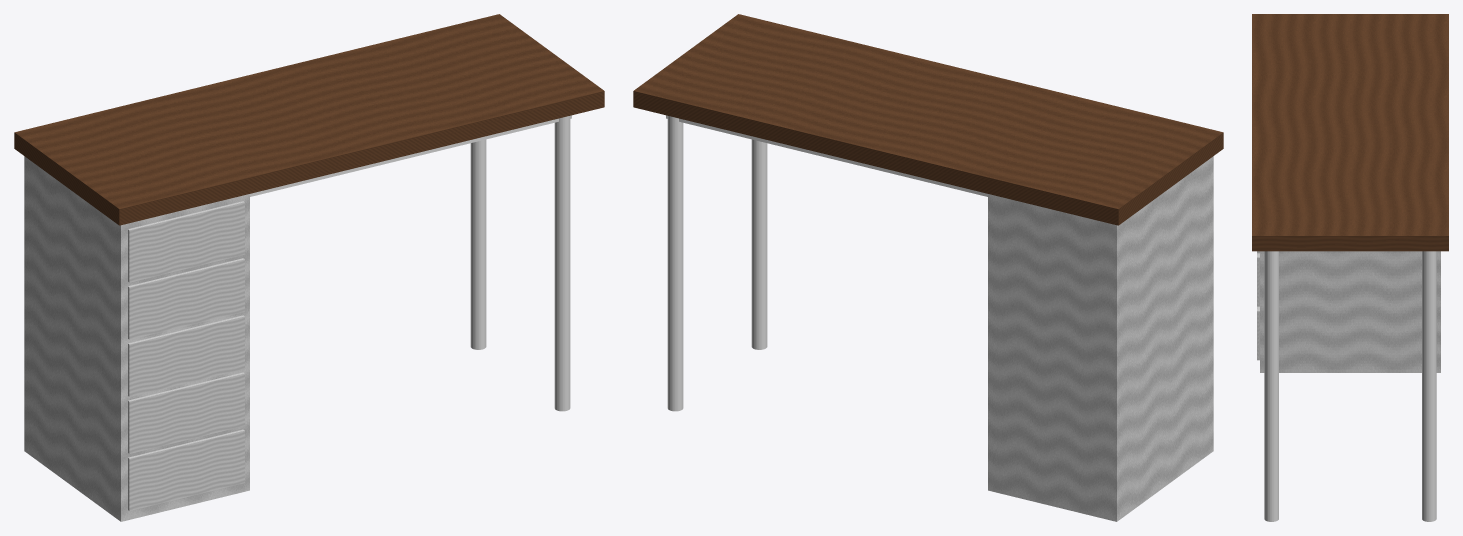
3 renders of one model, left to right at view 1: azimuth 30°, elevation 25°; view 2: azimuth 150°, elevation 25°; view 3: azimuth 270°, elevation 25°, orthographic. The views are drawn at different scales.
Parts seen in each view (by area): view 1: 1 tabletop, 2 drawer_cabinet_body, 3 drawer_front_1, 4 drawer_front_2, 5 drawer_front_3, 6 drawer_front_4, 7 drawer_front_5, 10 front_right_leg, 11 back_right_leg, 8 front_apron_bar; view 2: 2 drawer_cabinet_body, 1 tabletop, 11 back_right_leg, 10 front_right_leg, 9 back_apron_bar; view 3: 1 tabletop, 2 drawer_cabinet_body, 10 front_right_leg, 11 back_right_leg.
Boxes of the visible parts, x1,y1,x2,y2 form: 1 tabletop: (14,14,604,225); 2 drawer_cabinet_body: (24,156,249,521); 3 drawer_front_1: (128,429,244,510); 4 drawer_front_2: (128,372,244,453); 5 drawer_front_3: (128,315,244,396); 6 drawer_front_4: (128,258,244,339); 7 drawer_front_5: (128,201,244,282); 10 front_right_leg: (554,116,570,411); 11 back_right_leg: (470,139,486,349); 8 front_apron_bar: (250,115,571,196); 2 drawer_cabinet_body: (988,156,1213,521); 1 tabletop: (633,14,1223,225); 11 back_right_leg: (667,116,683,411); 10 front_right_leg: (751,139,767,349); 9 back_apron_bar: (666,115,987,196); 1 tabletop: (1252,14,1448,251); 2 drawer_cabinet_body: (1260,251,1440,372); 10 front_right_leg: (1264,251,1278,521); 11 back_right_leg: (1422,251,1436,521).
Bounding box in the file's own units: 1.6 × 1 × 0.6.
4 materials, 3 textured.
